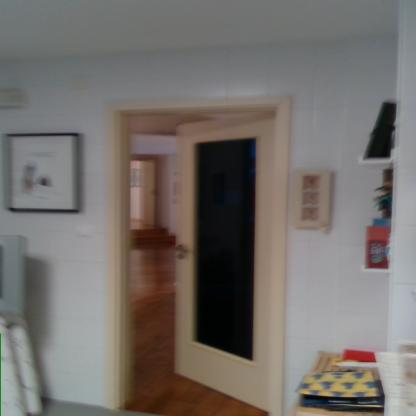semi: (94, 82, 309, 416)
